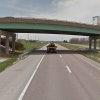Bridge: (2, 10, 94, 38)
